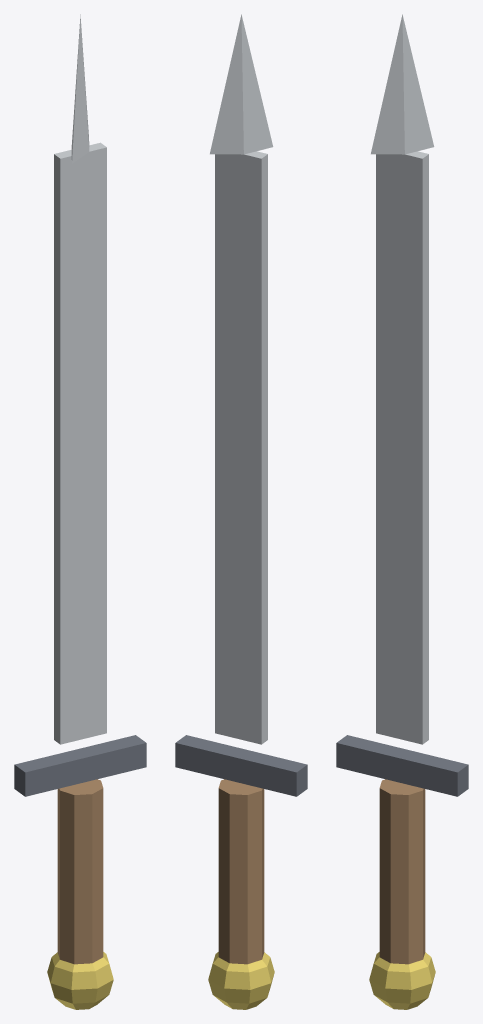
Rendered from iron_sword.glb.
The picture shows the model from 3 angles, left to right: view 1: azimuth 30°, elevation 25°; view 2: azimuth 150°, elevation 25°; view 3: azimuth 330°, elevation 25°; orthographic projection.
Parts seen in each view (by area): view 1: iron_sword; view 2: iron_sword; view 3: iron_sword.
Boxes of the visible parts, x1,y1,x2,y2 form: iron_sword: (14,14,146,1009); iron_sword: (175,14,307,1009); iron_sword: (336,14,468,1009).
Size of the model in its own units: 0.115 by 0.9 by 0.0566.
